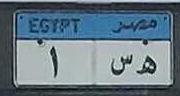1: (48, 43, 60, 79)
haa: (135, 52, 158, 79)
seen: (110, 52, 134, 80)
